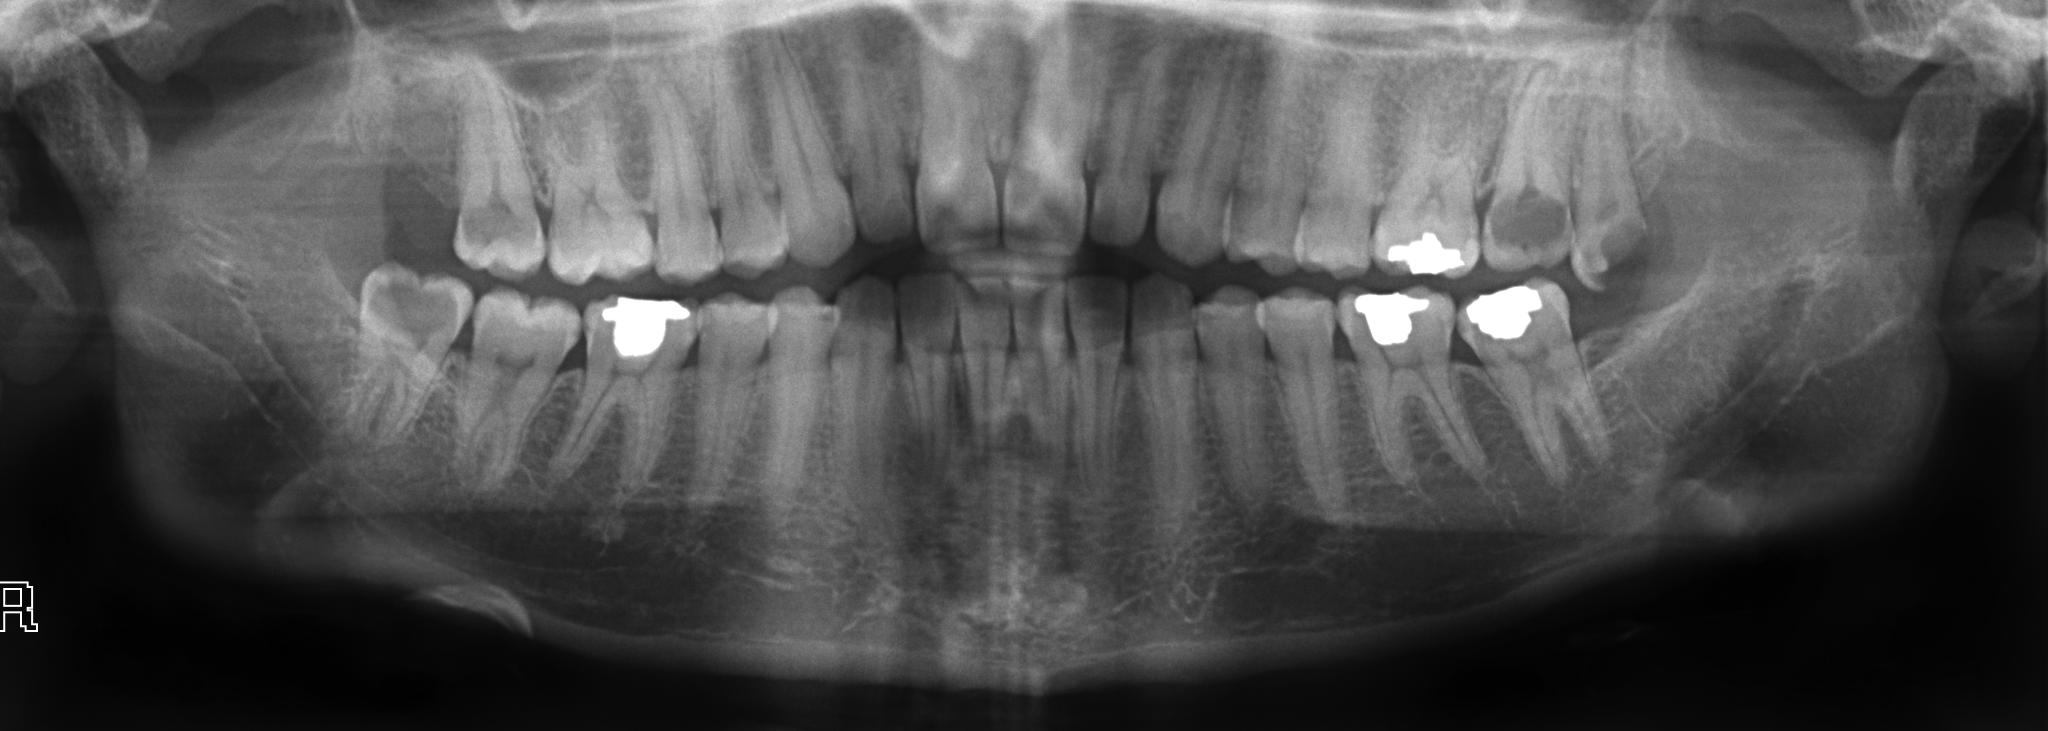fractura: (1458, 278, 1599, 478), (564, 295, 699, 487), (1332, 285, 1455, 480), (1369, 119, 1484, 275)
